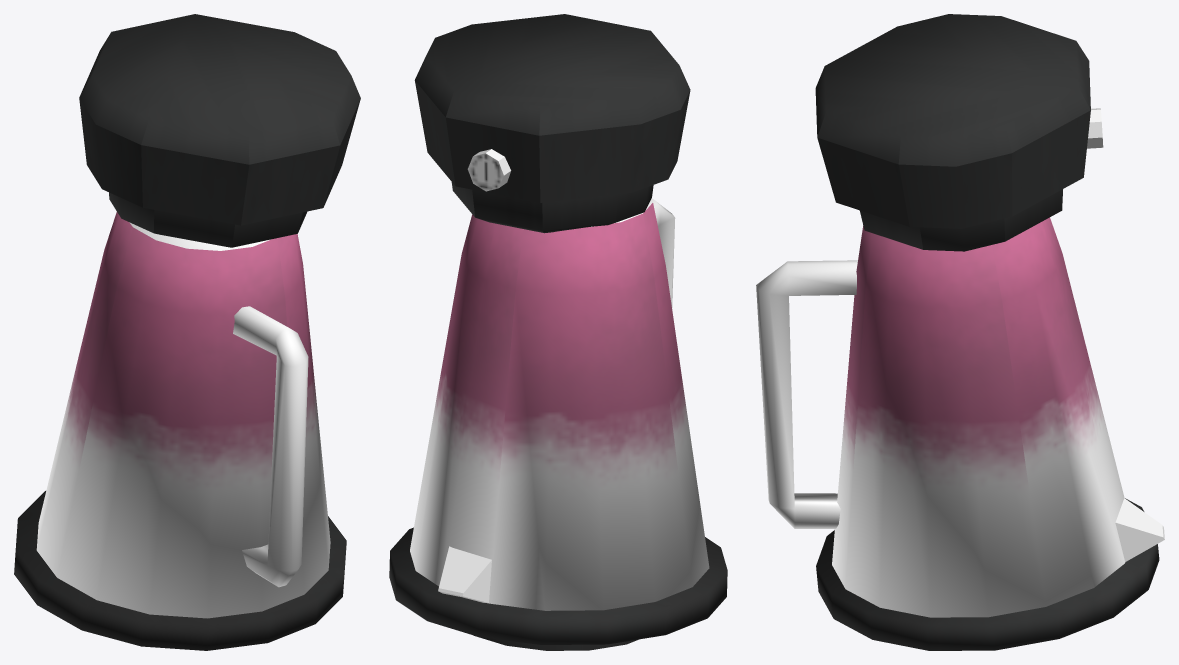
File: H_Blender.fbx
3 renders of one model, left to right at view 1: azimuth 30°, elevation 25°; view 2: azimuth 150°, elevation 25°; view 3: azimuth 270°, elevation 25°, orthographic.
Parts seen in each view (by area): view 1: Blender; view 2: Blender; view 3: Blender.
Part boxes in pixels (x1,y1,x2,y2): Blender: [14, 14, 360, 650]; Blender: [389, 14, 727, 650]; Blender: [756, 14, 1164, 650].
Size of the model in its own units: 31.53 by 56.04 by 37.28.
